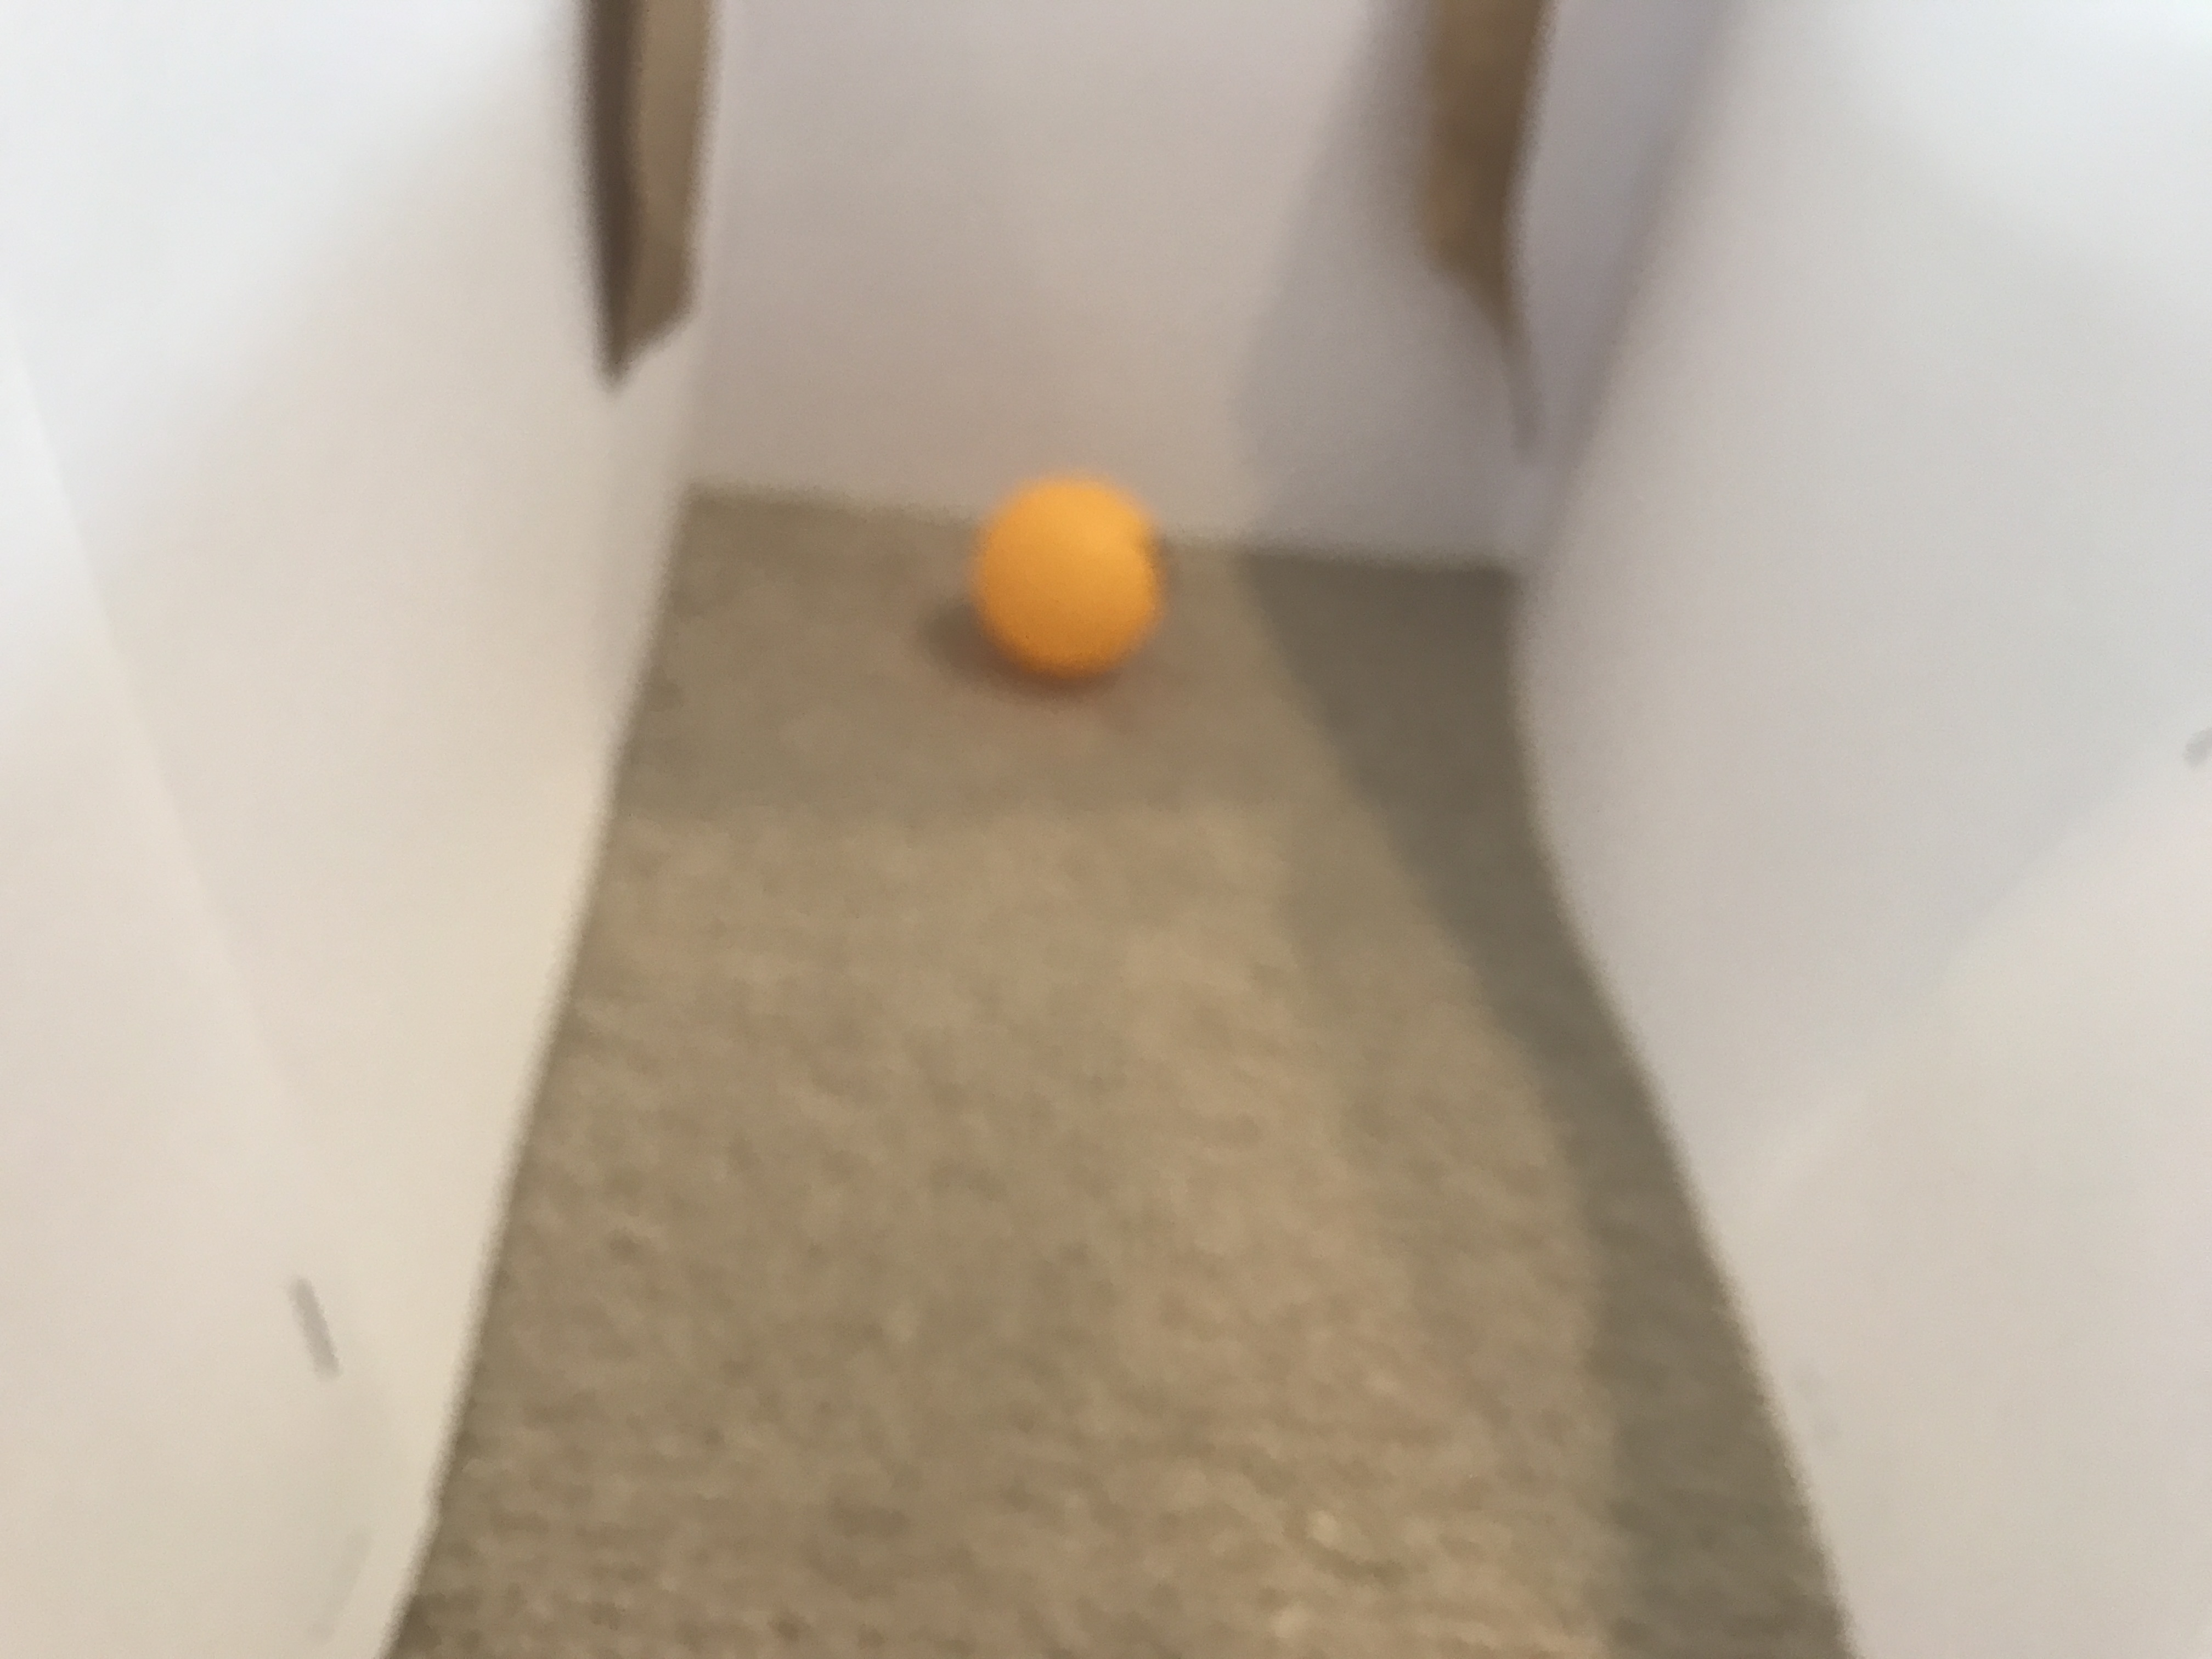pp: (967, 467, 1165, 681)
